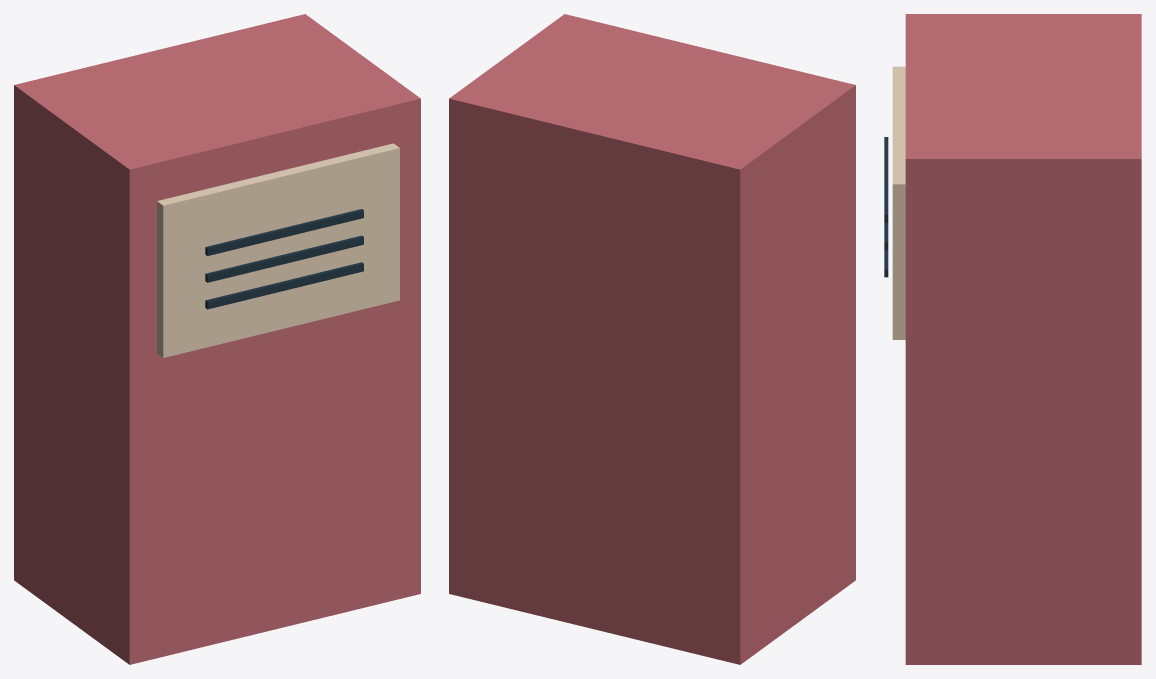
The model's file is newsstand.obj.
The picture shows the model from 3 angles, left to right: view 1: azimuth 30°, elevation 25°; view 2: azimuth 150°, elevation 25°; view 3: azimuth 270°, elevation 25°; orthographic projection. The views are drawn at different scales.
Visible parts, largest first — view 1: newsstand; view 2: newsstand; view 3: newsstand.
Boxes of the visible parts, left/top/right/bottom form: newsstand: left=14, top=14, right=420, bottom=664; newsstand: left=449, top=14, right=855, bottom=664; newsstand: left=884, top=14, right=1141, bottom=664.
Size of the model in its own units: 0.8 by 1.3 by 0.6.
